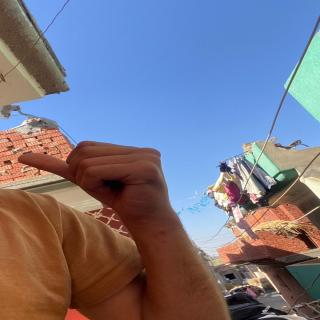WAW: (10, 137, 175, 226)
